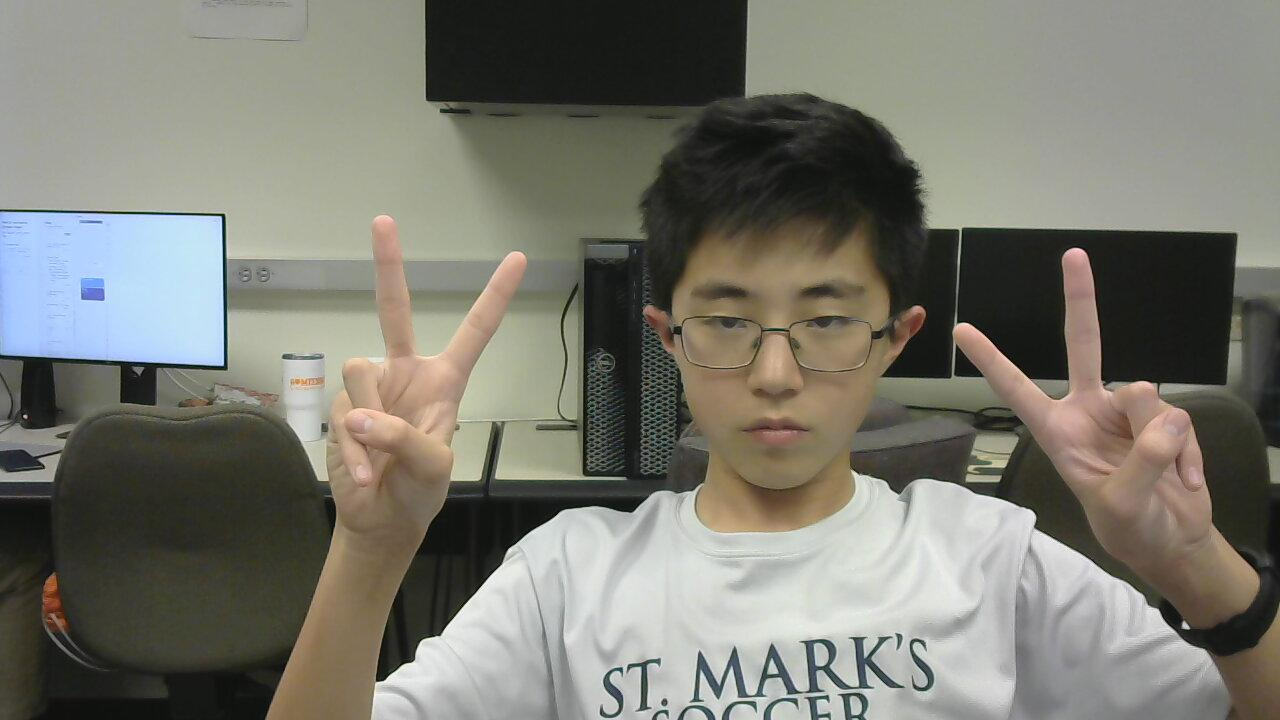peace: (953, 237, 1214, 563), (308, 207, 532, 534)
